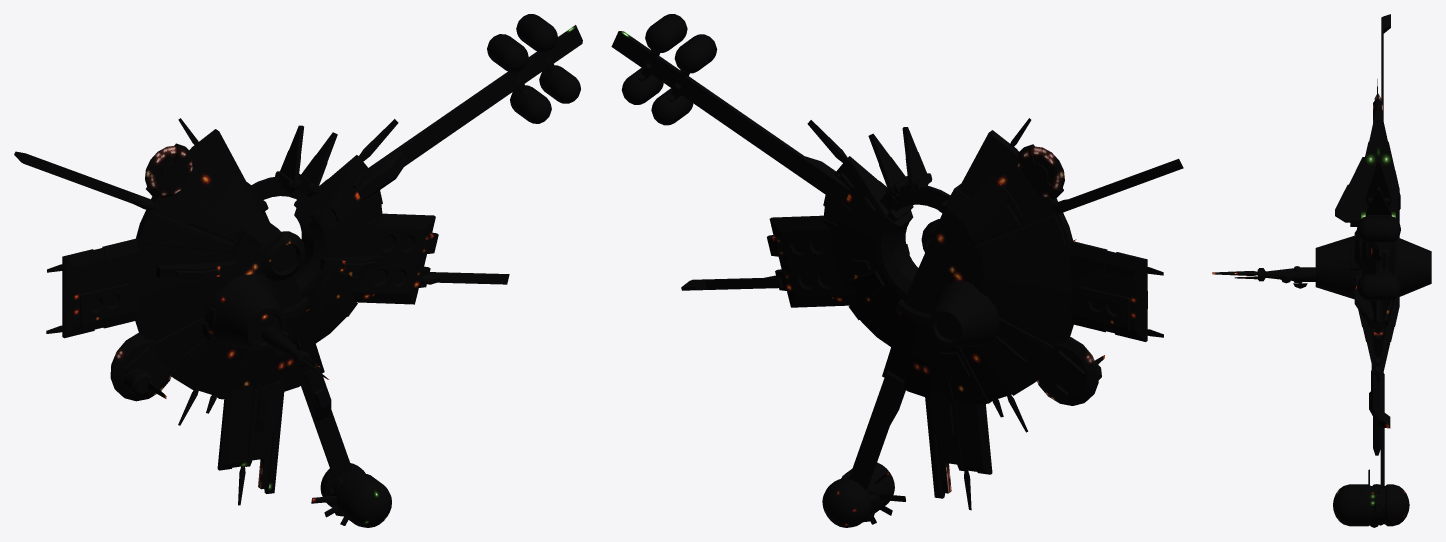
Rendered from ama_ruin_structure_03.glb.
3 renders of one model, left to right at view 1: azimuth 30°, elevation 25°; view 2: azimuth 150°, elevation 25°; view 3: azimuth 270°, elevation 25°, orthographic. The views are drawn at different scales.
Parts seen in each view (by area): view 1: ama_ruin_structure_03, ama_ruin_parts_LOD0; view 2: ama_ruin_structure_03, ama_ruin_parts_LOD0; view 3: ama_ruin_structure_03, ama_ruin_parts_LOD0.
Part boxes in pixels (x1,y1,x2,y2): ama_ruin_structure_03: (14,14,582,527); ama_ruin_parts_LOD0: (79,171,375,432); ama_ruin_structure_03: (611,14,1183,527); ama_ruin_parts_LOD0: (836,173,1129,433); ama_ruin_structure_03: (1212,14,1431,527); ama_ruin_parts_LOD0: (1350,193,1400,426).
Size of the model in its own units: 12.34 by 9.46 by 4.86.
1 material, 1 textured.
